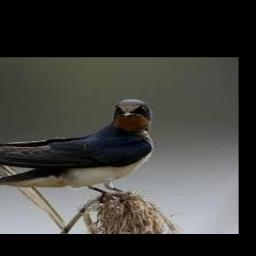Swallow: (0, 99, 155, 194)
